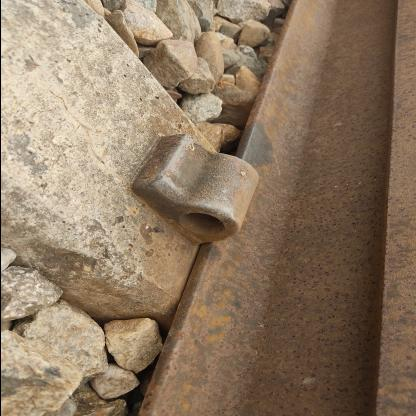Defective 1: (95, 101, 312, 299)
